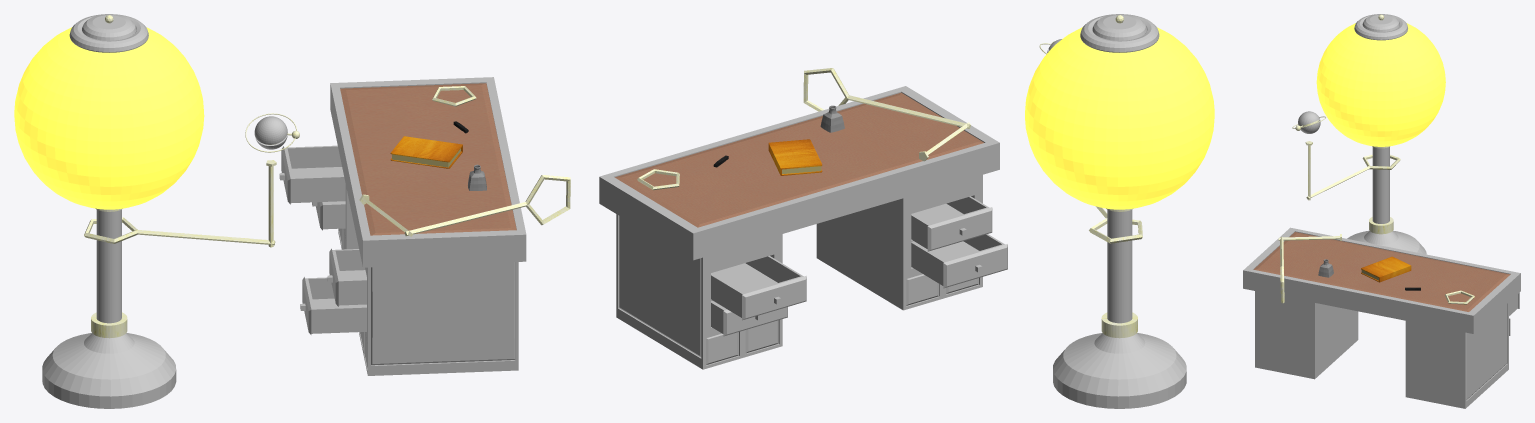
The picture shows the model from 3 angles, left to right: view 1: azimuth 30°, elevation 25°; view 2: azimuth 150°, elevation 25°; view 3: azimuth 270°, elevation 25°; orthographic projection. The views are drawn at different scales.
Parts seen in each view (by area): view 1: Desk, Orrery_Sun, Drawer_TL, Orrerry_Arm, Drawer_BR, Drawer_TR, Book_Clothbound, Orrerry_Arm_Desk, Drawer_BL; view 2: Desk, Orrery_Sun, Drawer_TL, Drawer_BR, Drawer_TR, Book_Clothbound, Orrerry_Arm_Desk, Drawer_BL, Orrerry_Arm; view 3: Desk, Orrery_Sun, Orrerry_Arm, Book_Clothbound, Orrerry_Arm_Desk.
Part boxes in pixels (x1=…): Desk: x1=330, y1=77, x2=526, y2=375; Orrery_Sun: x1=14, y1=14, x2=204, y2=408; Drawer_TL: x1=279, y1=145, x2=345, y2=204; Orrerry_Arm: x1=84, y1=113, x2=299, y2=247; Drawer_BR: x1=300, y1=277, x2=366, y2=334; Drawer_TR: x1=327, y1=248, x2=366, y2=306; Book_Clothbound: x1=390, y1=136, x2=462, y2=168; Orrerry_Arm_Desk: x1=359, y1=175, x2=570, y2=236; Drawer_BL: x1=312, y1=201, x2=345, y2=230; Desk: x1=599, y1=86, x2=999, y2=369; Orrery_Sun: x1=1025, y1=14, x2=1214, y2=408; Drawer_TL: x1=711, y1=256, x2=806, y2=320; Drawer_BR: x1=911, y1=234, x2=1007, y2=288; Drawer_TR: x1=911, y1=196, x2=992, y2=251; Book_Clothbound: x1=768, y1=139, x2=822, y2=175; Orrerry_Arm_Desk: x1=803, y1=68, x2=970, y2=161; Drawer_BL: x1=711, y1=300, x2=787, y2=336; Orrerry_Arm: x1=1039, y1=39, x2=1142, y2=243; Desk: x1=1243, y1=227, x2=1520, y2=408; Orrery_Sun: x1=1316, y1=14, x2=1445, y2=254; Orrerry_Arm: x1=1292, y1=111, x2=1400, y2=200; Book_Clothbound: x1=1361, y1=256, x2=1411, y2=282; Orrerry_Arm_Desk: x1=1278, y1=234, x2=1341, y2=303.
Size of what is drawn, in the model's own units: 6.56 by 4.28 by 4.34.
